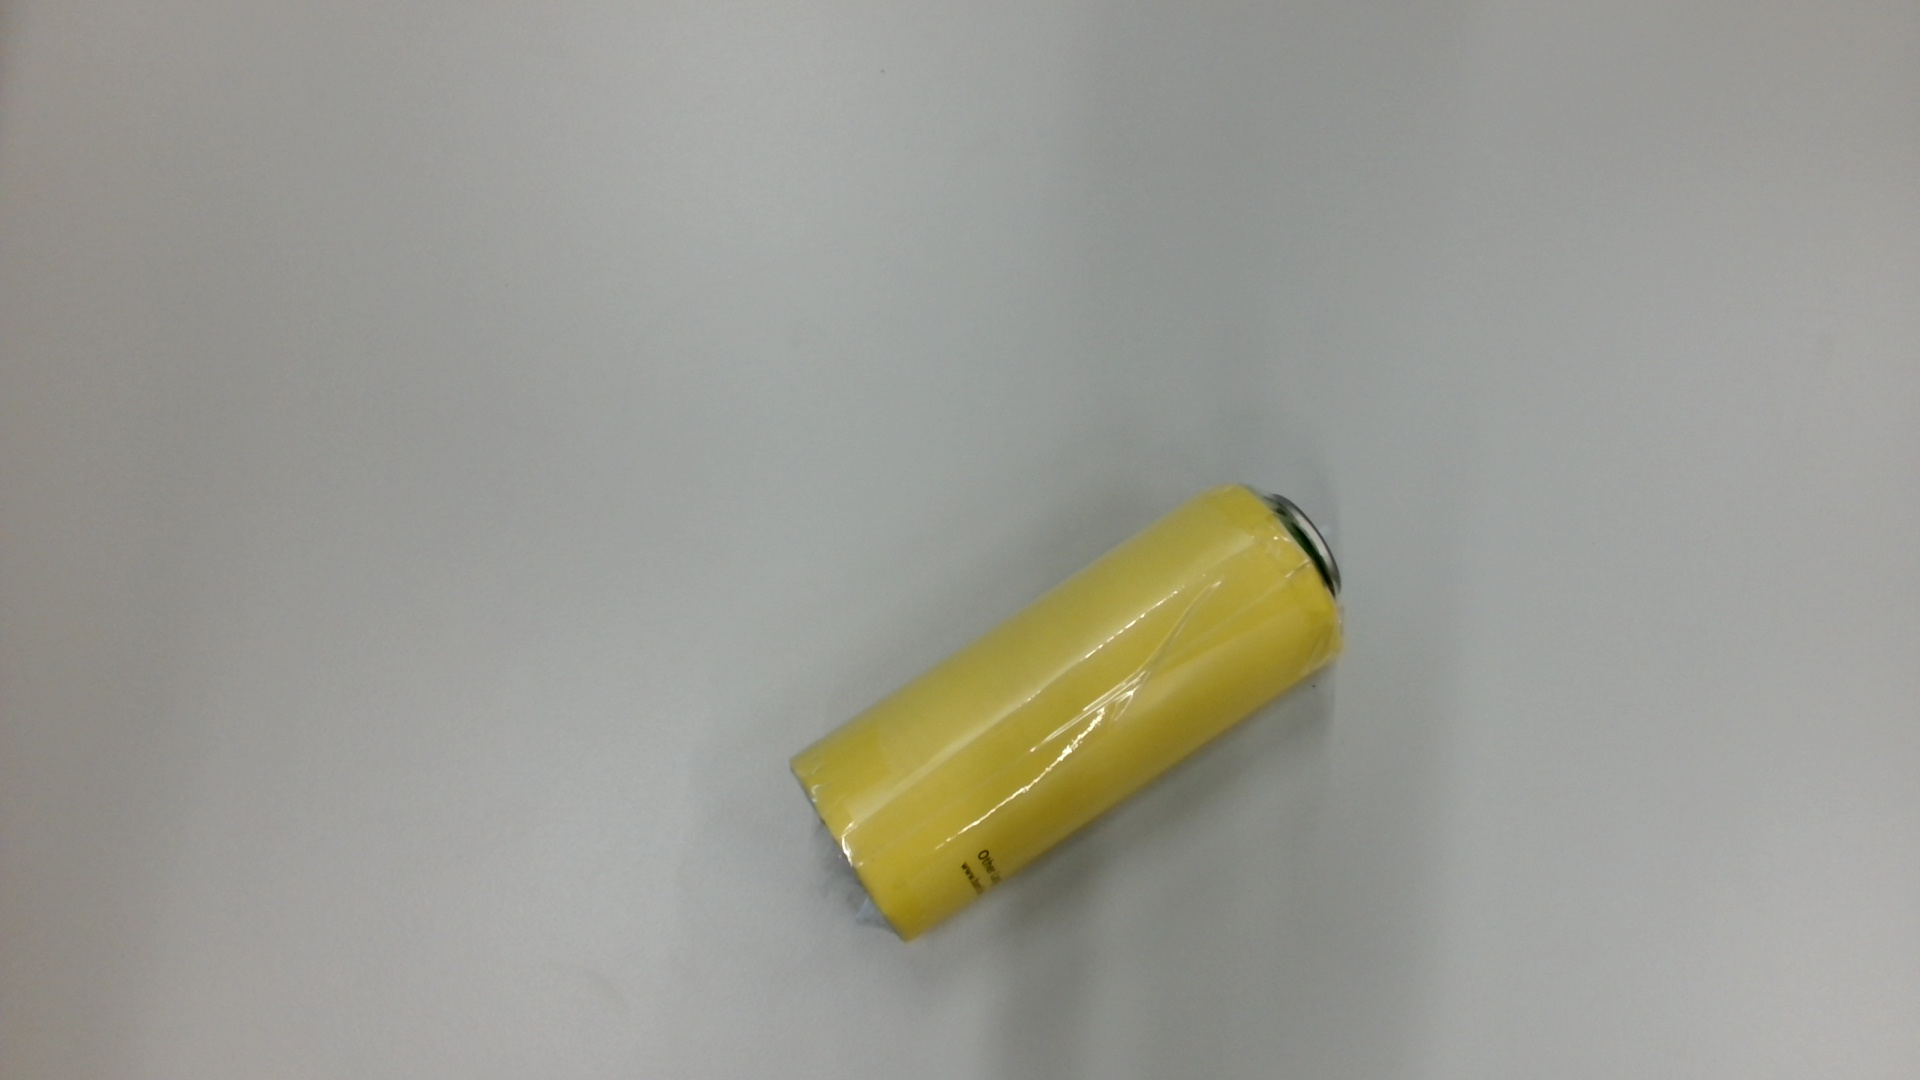Cylinder: (785, 475, 1364, 956)
